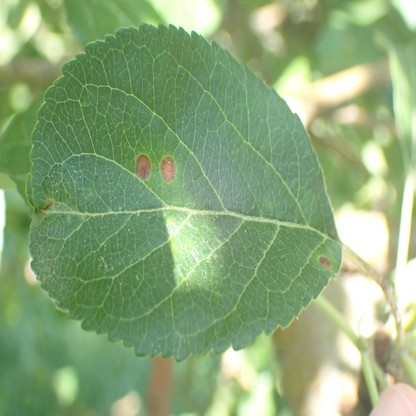frogeye_leaf_spot: (161, 157, 177, 183), (136, 155, 150, 178), (318, 255, 330, 266)
powdery_mildew: (35, 236, 58, 287)
